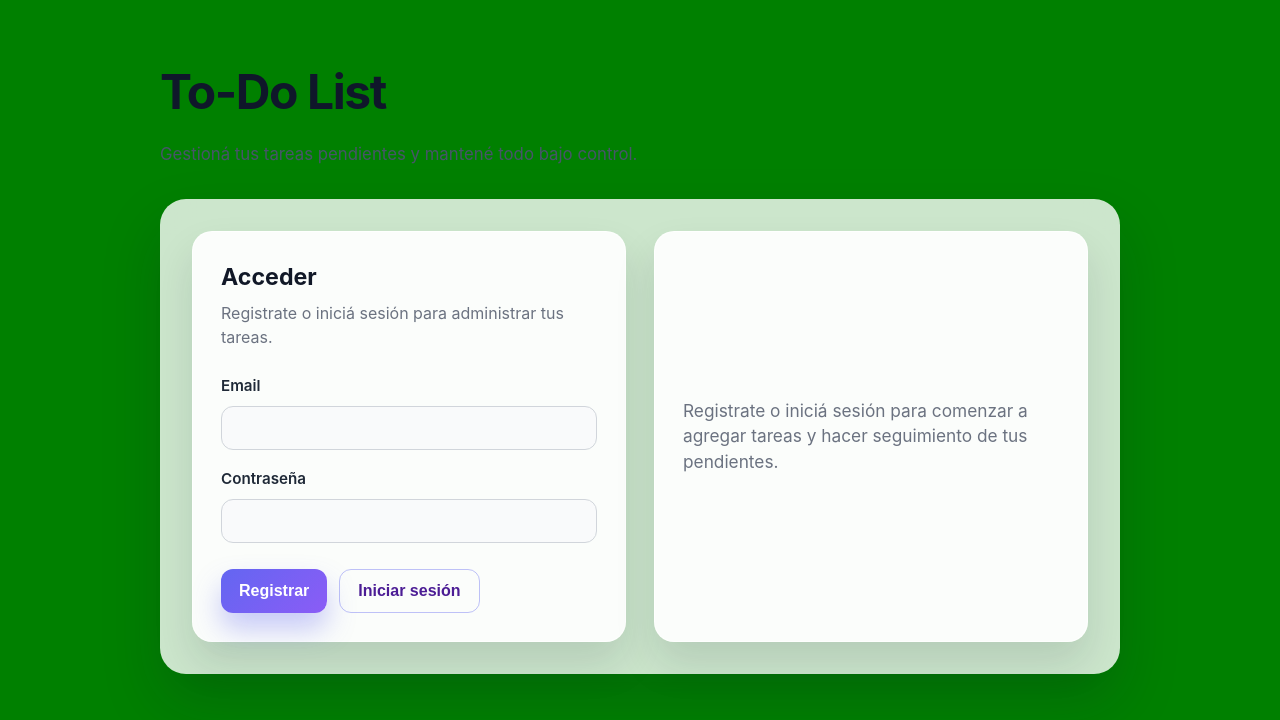
Todos – flujos principales › Crear: agrega una tarea y se ve en la lista
Type "cypress@example.com" into the field named "Email" at (409, 428), box top-left (221, 406), bottom-right (597, 450)
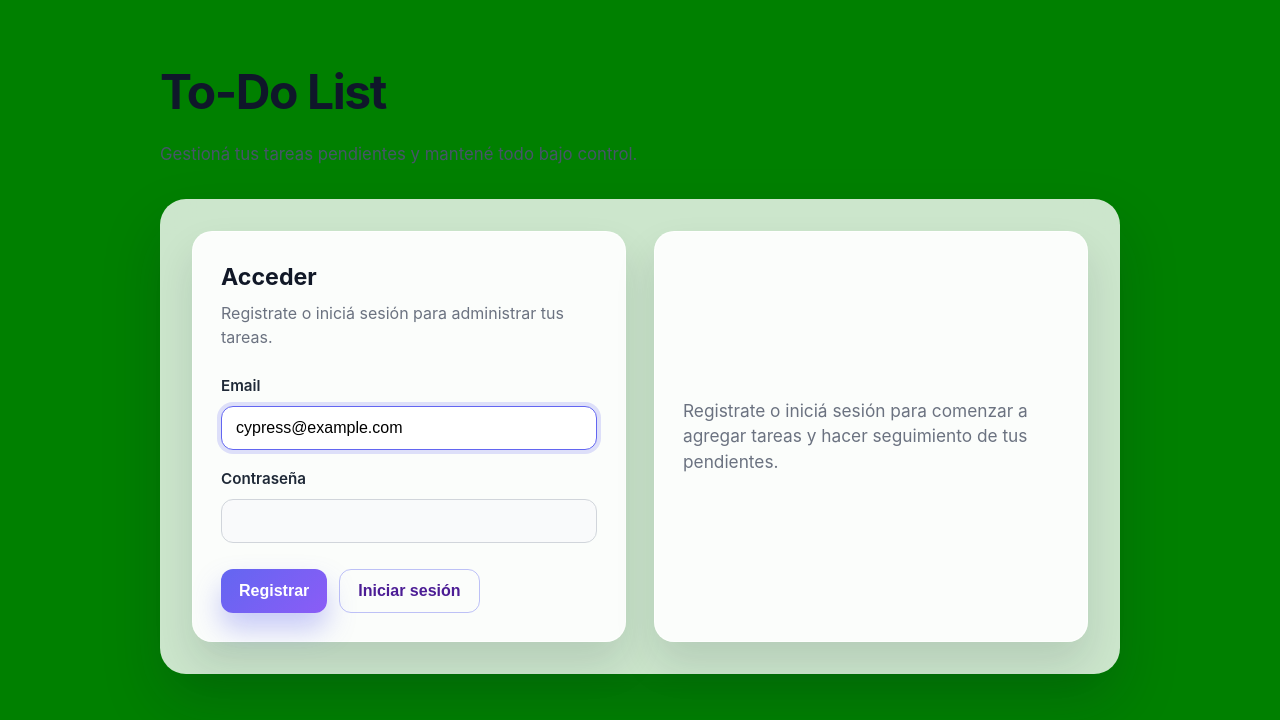
Type "superSecret123" into the password field named "Contraseña" at (409, 521), box top-left (221, 499), bottom-right (597, 543)
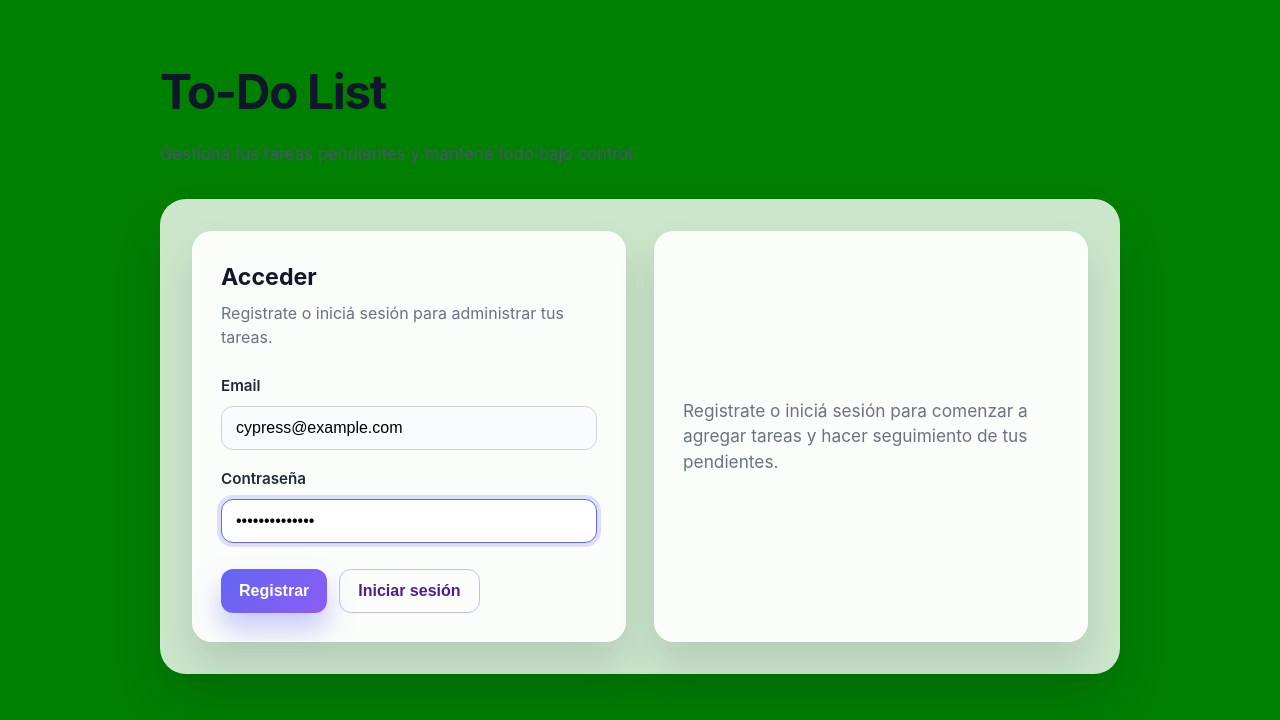
Click the button "Iniciar sesión" at (409, 591), box top-left (339, 569), bottom-right (479, 613)
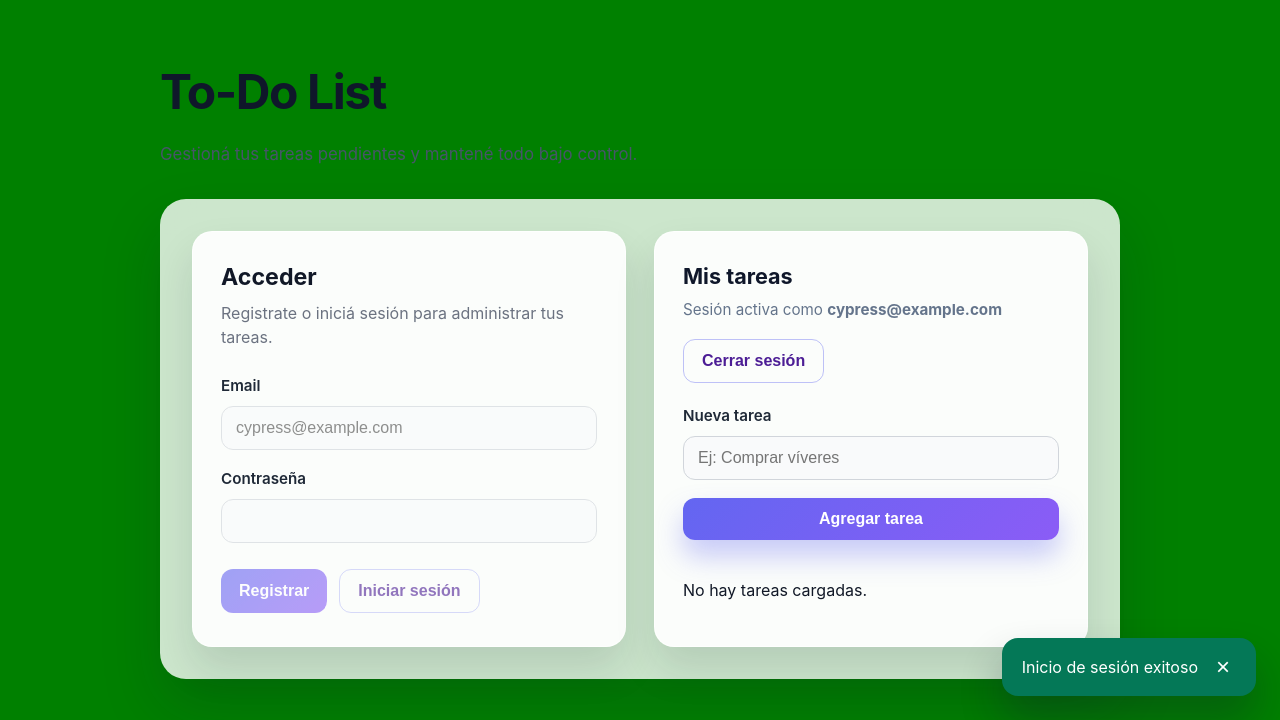
Type "Comprar pan" into the field with test id "todo-input" at (871, 458), box top-left (683, 436), bottom-right (1059, 480)
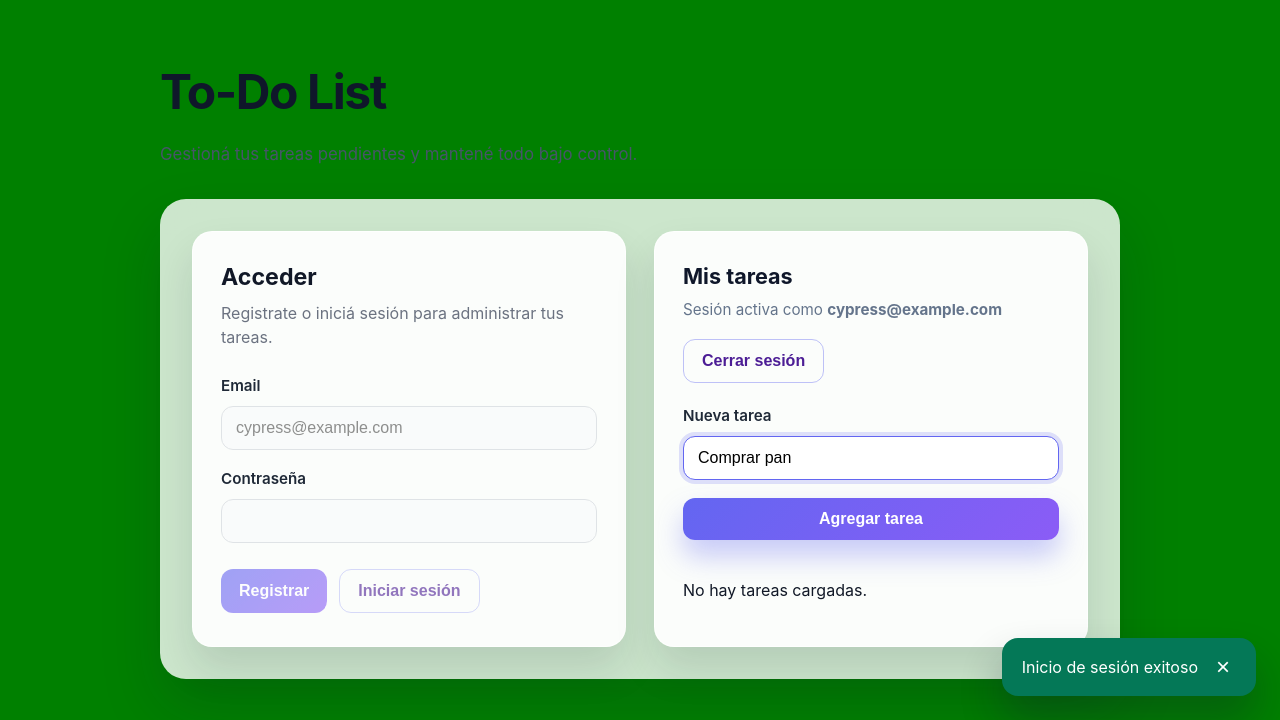
Click the button with test id "add-btn" at (871, 519), box top-left (683, 498), bottom-right (1059, 540)
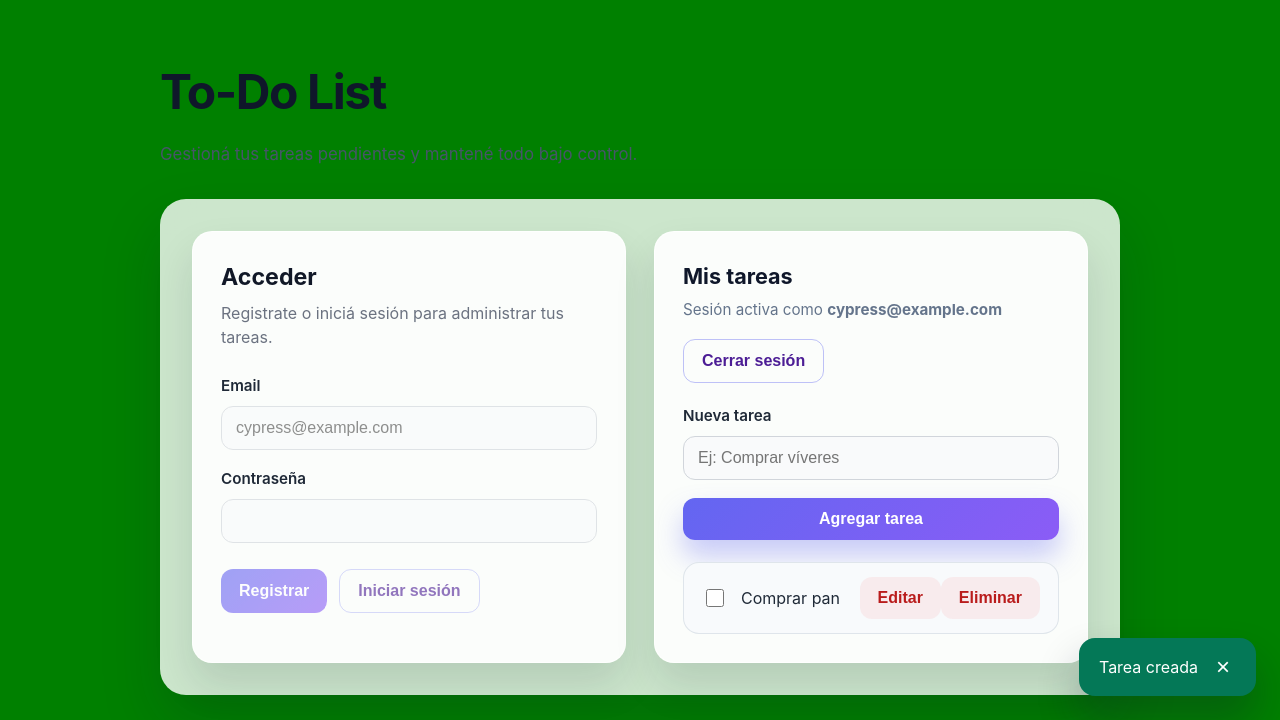
Expected: the list item "Comprar pan" is shown, top-left (741, 588), bottom-right (840, 608)
